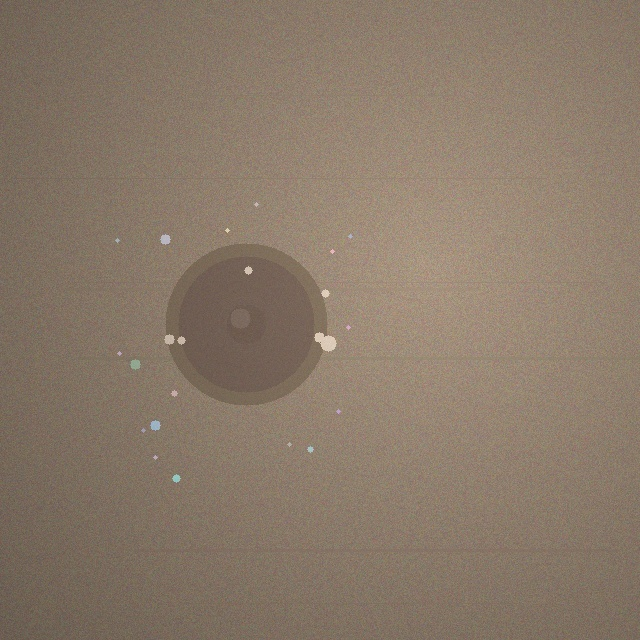overburn: (165, 243, 327, 405)
